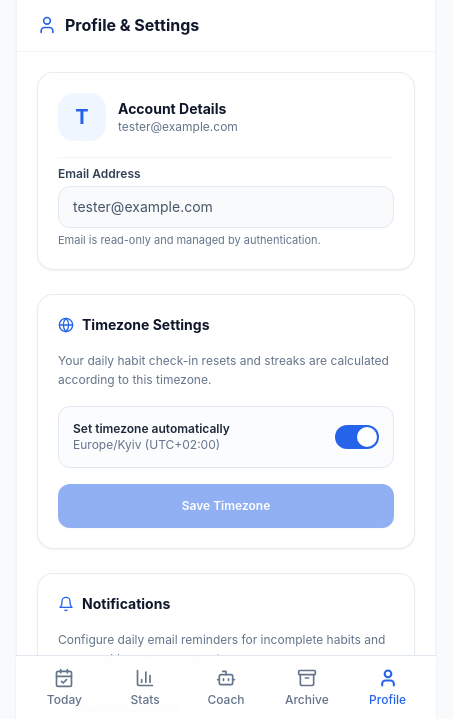
ProfilePage timezone UX › switching toggle off shows searchable timezone picker with detected timezone suggested first
Click the switch named "set timezone automatically".
click(357, 436)  # box [335,424,379,448]
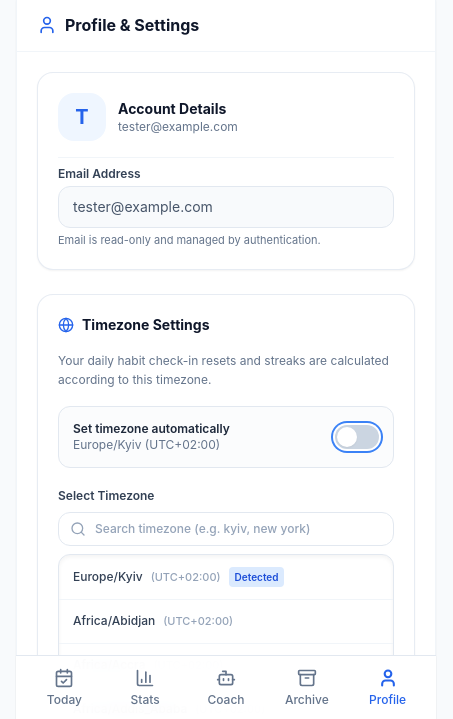
Result: the switch named "set timezone automatically" is not checked at [335,424,379,448]
Result: the field with placeholder "Search timezone (e.g. kyiv, new york)" is shown at [58,512,394,546]
Result: the option "Europe/Kyiv (UTC+02:00) Detected" is shown at [73,566,284,586]
